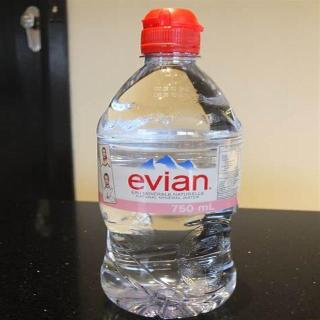Plastic-bottle: (85, 3, 253, 320)
